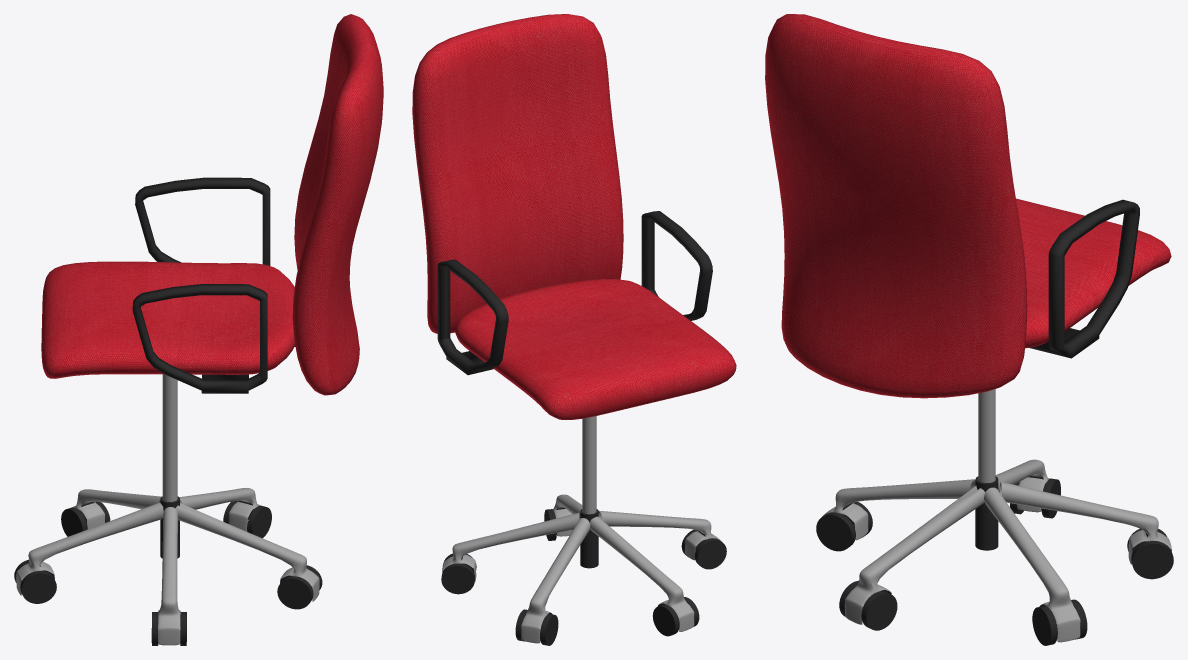
The model's file is ergonomic_office_chair.glb.
3 renders of one model, left to right at view 1: azimuth 30°, elevation 25°; view 2: azimuth 150°, elevation 25°; view 3: azimuth 270°, elevation 25°, orthographic. The views are drawn at different scales.
Parts seen in each view (by area): view 1: red_digita_chair; view 2: red_digita_chair; view 3: red_digita_chair.
Part boxes in pixels (x1,y1,x2,y2): red_digita_chair: (14, 14, 383, 645); red_digita_chair: (412, 14, 736, 645); red_digita_chair: (765, 14, 1173, 645).
Bounding box in the file's own units: 0.8742 × 1.36 × 0.8061.
3 materials, 1 textured.
